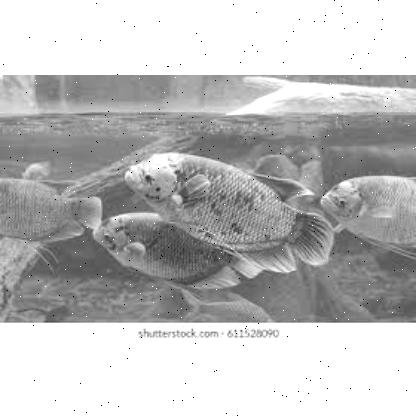gurame: (124, 144, 316, 260), (0, 172, 106, 252), (320, 172, 416, 244)
